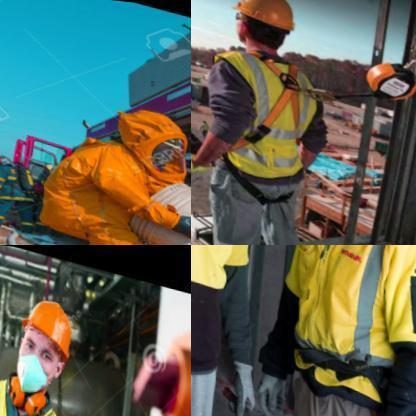vest: (191, 26, 338, 192), (27, 120, 155, 244)
